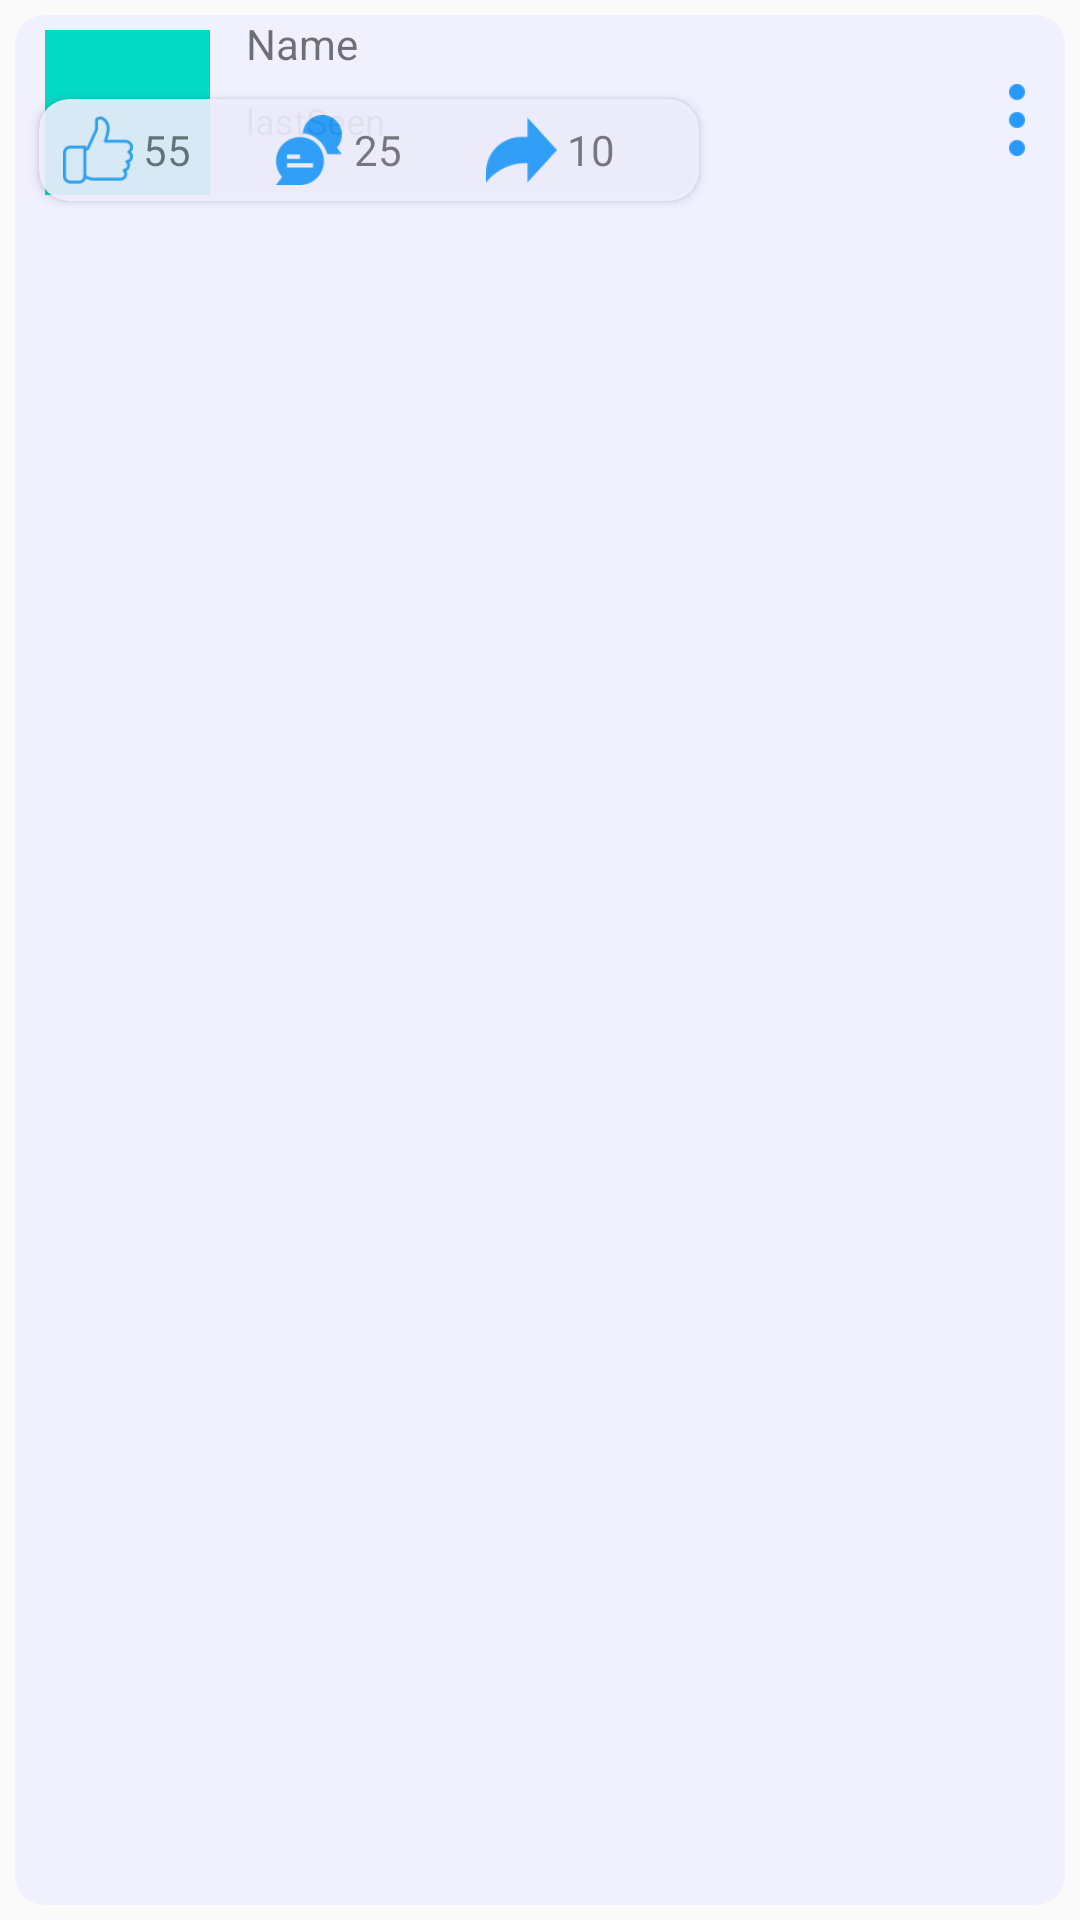

Icon bounding boxes for this 1080*1920 phone screenshot, format box=[x1, y1, x2, y2]:
comments: box=[276, 115, 342, 185]
like: box=[63, 116, 133, 184]
more: box=[1009, 84, 1025, 156]
share: box=[486, 118, 557, 183]
